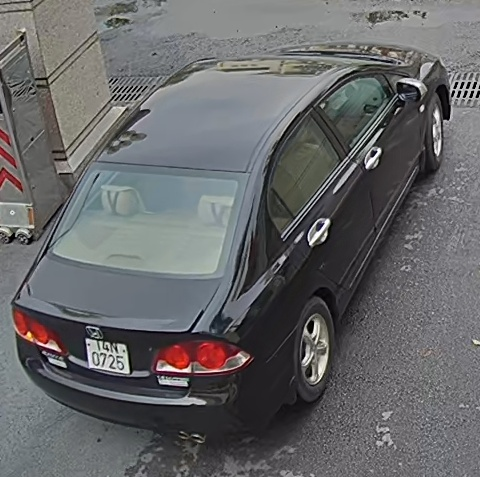vehicle plate: (81, 329, 133, 377)
